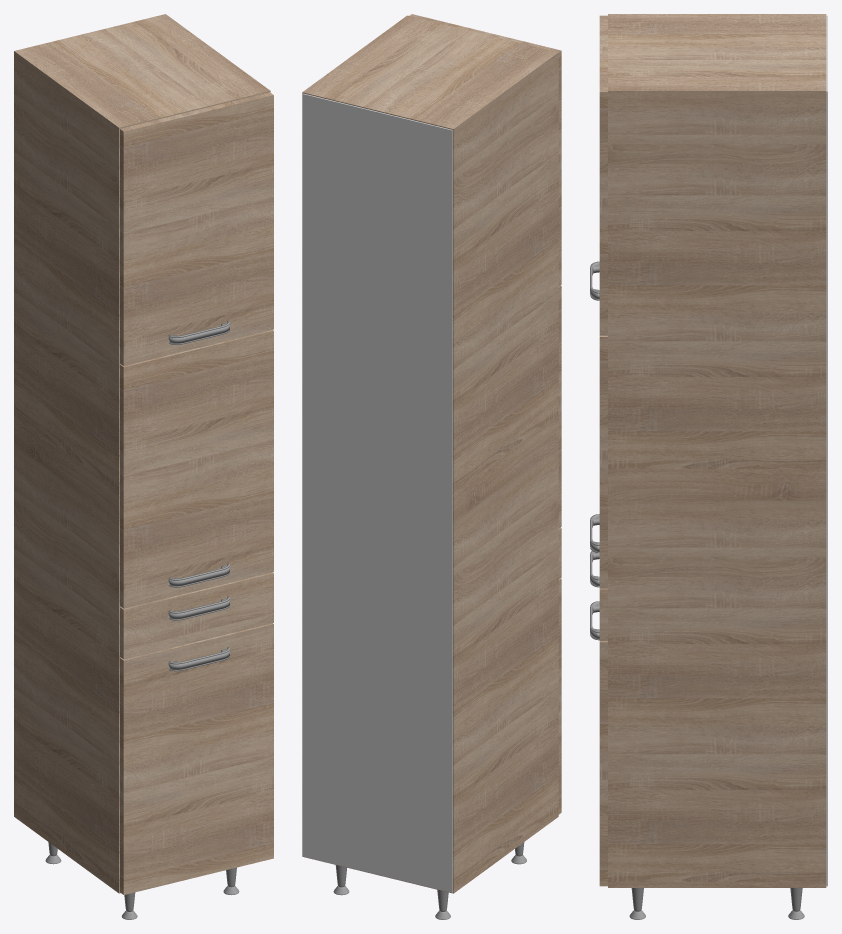
File: s_asz3a1f_40.glb
3 renders of one model, left to right at view 1: azimuth 30°, elevation 25°; view 2: azimuth 150°, elevation 25°; view 3: azimuth 270°, elevation 25°, orthographic. The views are drawn at different scales.
Visible parts, largest first — view 1: s_asz3a1f_40_korpusz, s_asz3a1f_40_ajto_2, s_asz3a1f_40_ajto_3, s_asz3a1f_40_ajto_1, s_asz3a1f_40_fiok_1, s_asz3a1f_40_fogo_1, s_asz3a1f_40_fogo_3, s_asz3a1f_40_fogo_2, s_asz3a1f_40_fogo_4; view 2: s_asz3a1f_40_korpusz, s_asz3a1f_40_ajto_3, s_asz3a1f_40_ajto_2, s_asz3a1f_40_ajto_1; view 3: s_asz3a1f_40_korpusz, s_asz3a1f_40_ajto_3, s_asz3a1f_40_ajto_2, s_asz3a1f_40_ajto_1.
Part boxes in pixels (bbox=[...]): s_asz3a1f_40_korpusz: bbox=[14, 14, 270, 893]; s_asz3a1f_40_ajto_2: bbox=[120, 330, 273, 608]; s_asz3a1f_40_ajto_3: bbox=[120, 92, 273, 365]; s_asz3a1f_40_ajto_1: bbox=[120, 623, 273, 894]; s_asz3a1f_40_fiok_1: bbox=[120, 572, 273, 659]; s_asz3a1f_40_fogo_1: bbox=[168, 596, 229, 620]; s_asz3a1f_40_fogo_3: bbox=[168, 563, 229, 587]; s_asz3a1f_40_fogo_2: bbox=[168, 647, 229, 671]; s_asz3a1f_40_fogo_4: bbox=[168, 321, 229, 344]; s_asz3a1f_40_korpusz: bbox=[302, 15, 558, 893]; s_asz3a1f_40_ajto_3: bbox=[409, 14, 561, 286]; s_asz3a1f_40_ajto_2: bbox=[558, 285, 561, 528]; s_asz3a1f_40_ajto_1: bbox=[558, 578, 561, 814]; s_asz3a1f_40_korpusz: bbox=[608, 14, 827, 887]; s_asz3a1f_40_ajto_3: bbox=[599, 15, 607, 335]; s_asz3a1f_40_ajto_2: bbox=[599, 335, 607, 588]; s_asz3a1f_40_ajto_1: bbox=[599, 641, 607, 886].
Bounding box in the file's own units: 0.4 × 2.03 × 0.5218.
Materials: 6 (3 with a texture image).
